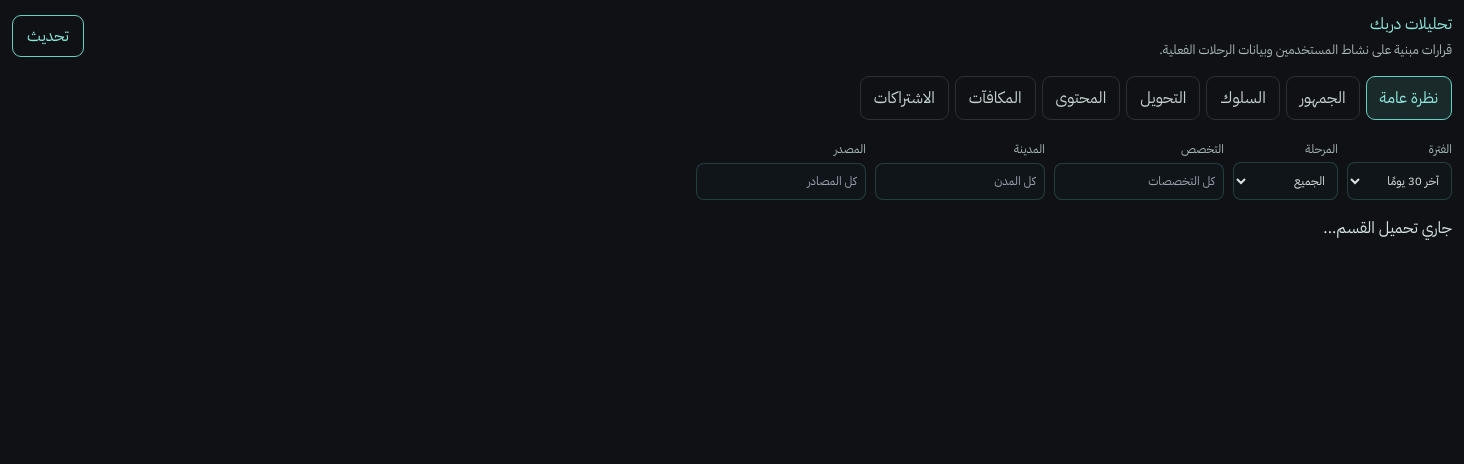
Admin Analytics V2 › shows the real unknown audience count without emphasizing absent groups
The image size is (1464, 464).
Click the button "الجمهور" at (1323, 98), box [1286,76,1360,120]
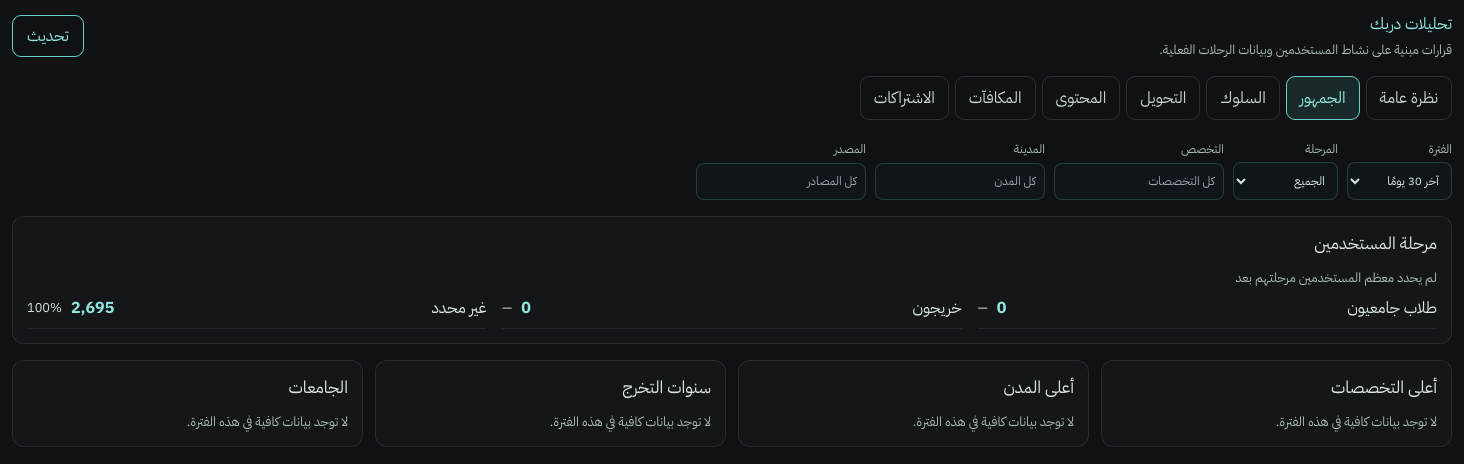
Expected: the text "لم يحدد معظم المستخدمين مرحلتهم بعد" is shown, [1236,268,1437,287]
Expected: the text "2,695" is shown, [71,296,114,320]
